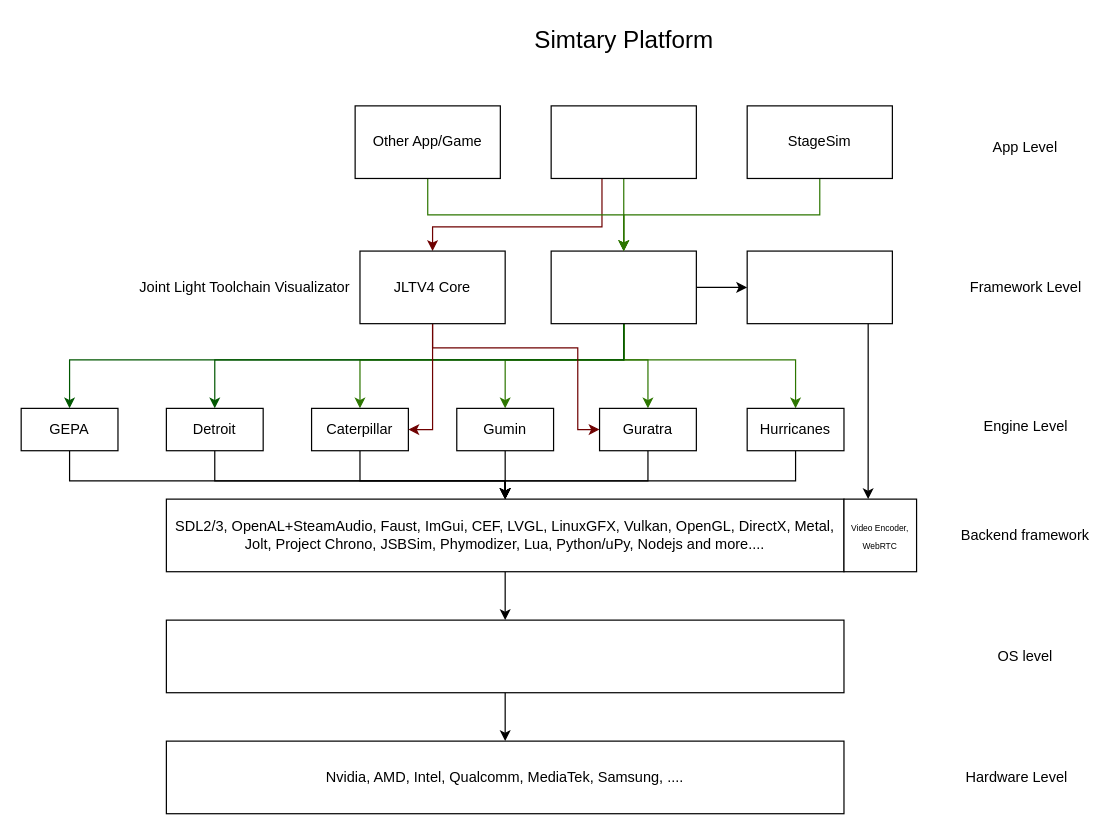
This 1119x835 diagram has some shape labels left out. The centre of each missing label's shape, as x and y in pixels:
"Blackhawk4 Session manager" goes at (x=819, y=287).
"HMMWV4 Core" goes at (x=623, y=287).
"Milistry" goes at (x=623, y=141).
"Windows, Linux, MacOS, iOS/iPadOS, Android, *BSD, SunOS" goes at (x=504, y=656).
